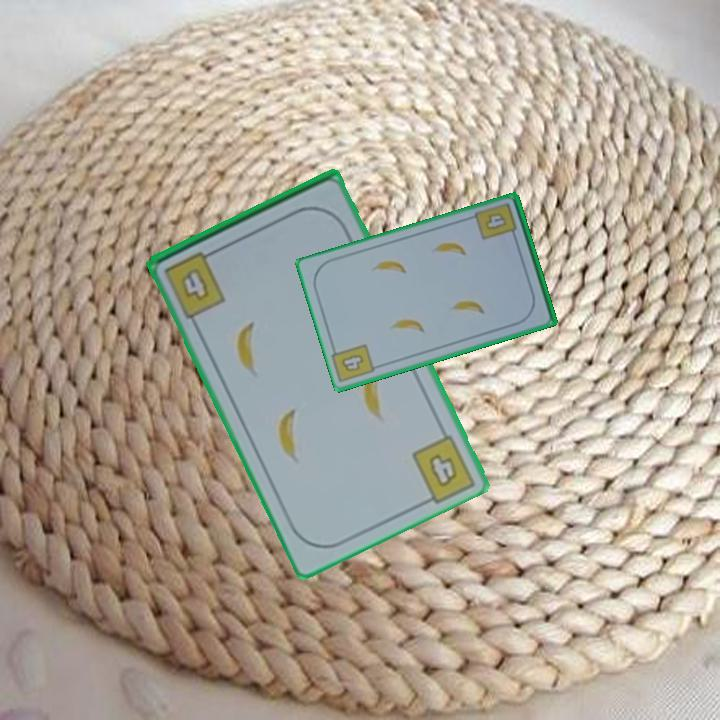4b: (160, 245, 229, 321), (473, 200, 520, 243), (425, 450, 461, 491), (338, 351, 366, 375)
